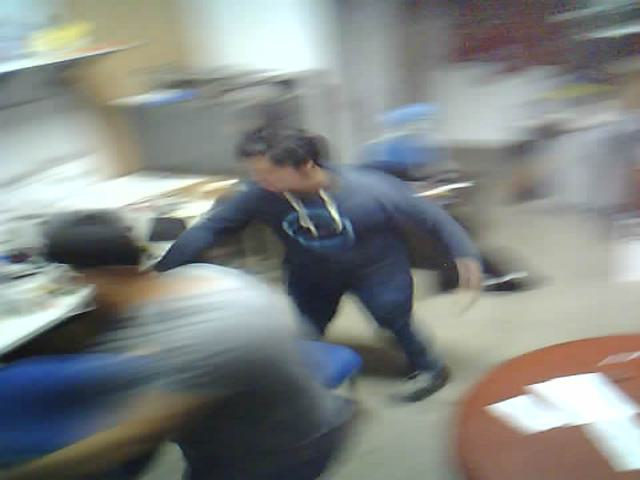person: (139, 97, 523, 401), (3, 199, 411, 476)
